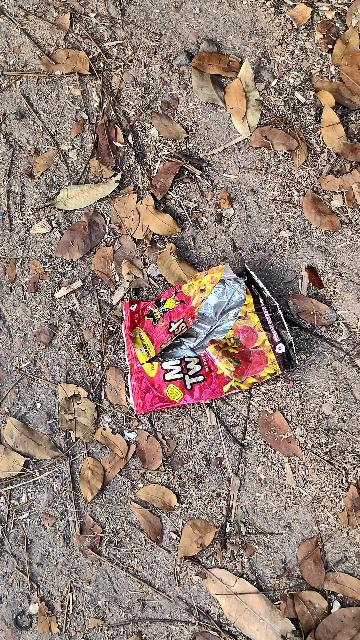packet: (99, 244, 316, 421)
